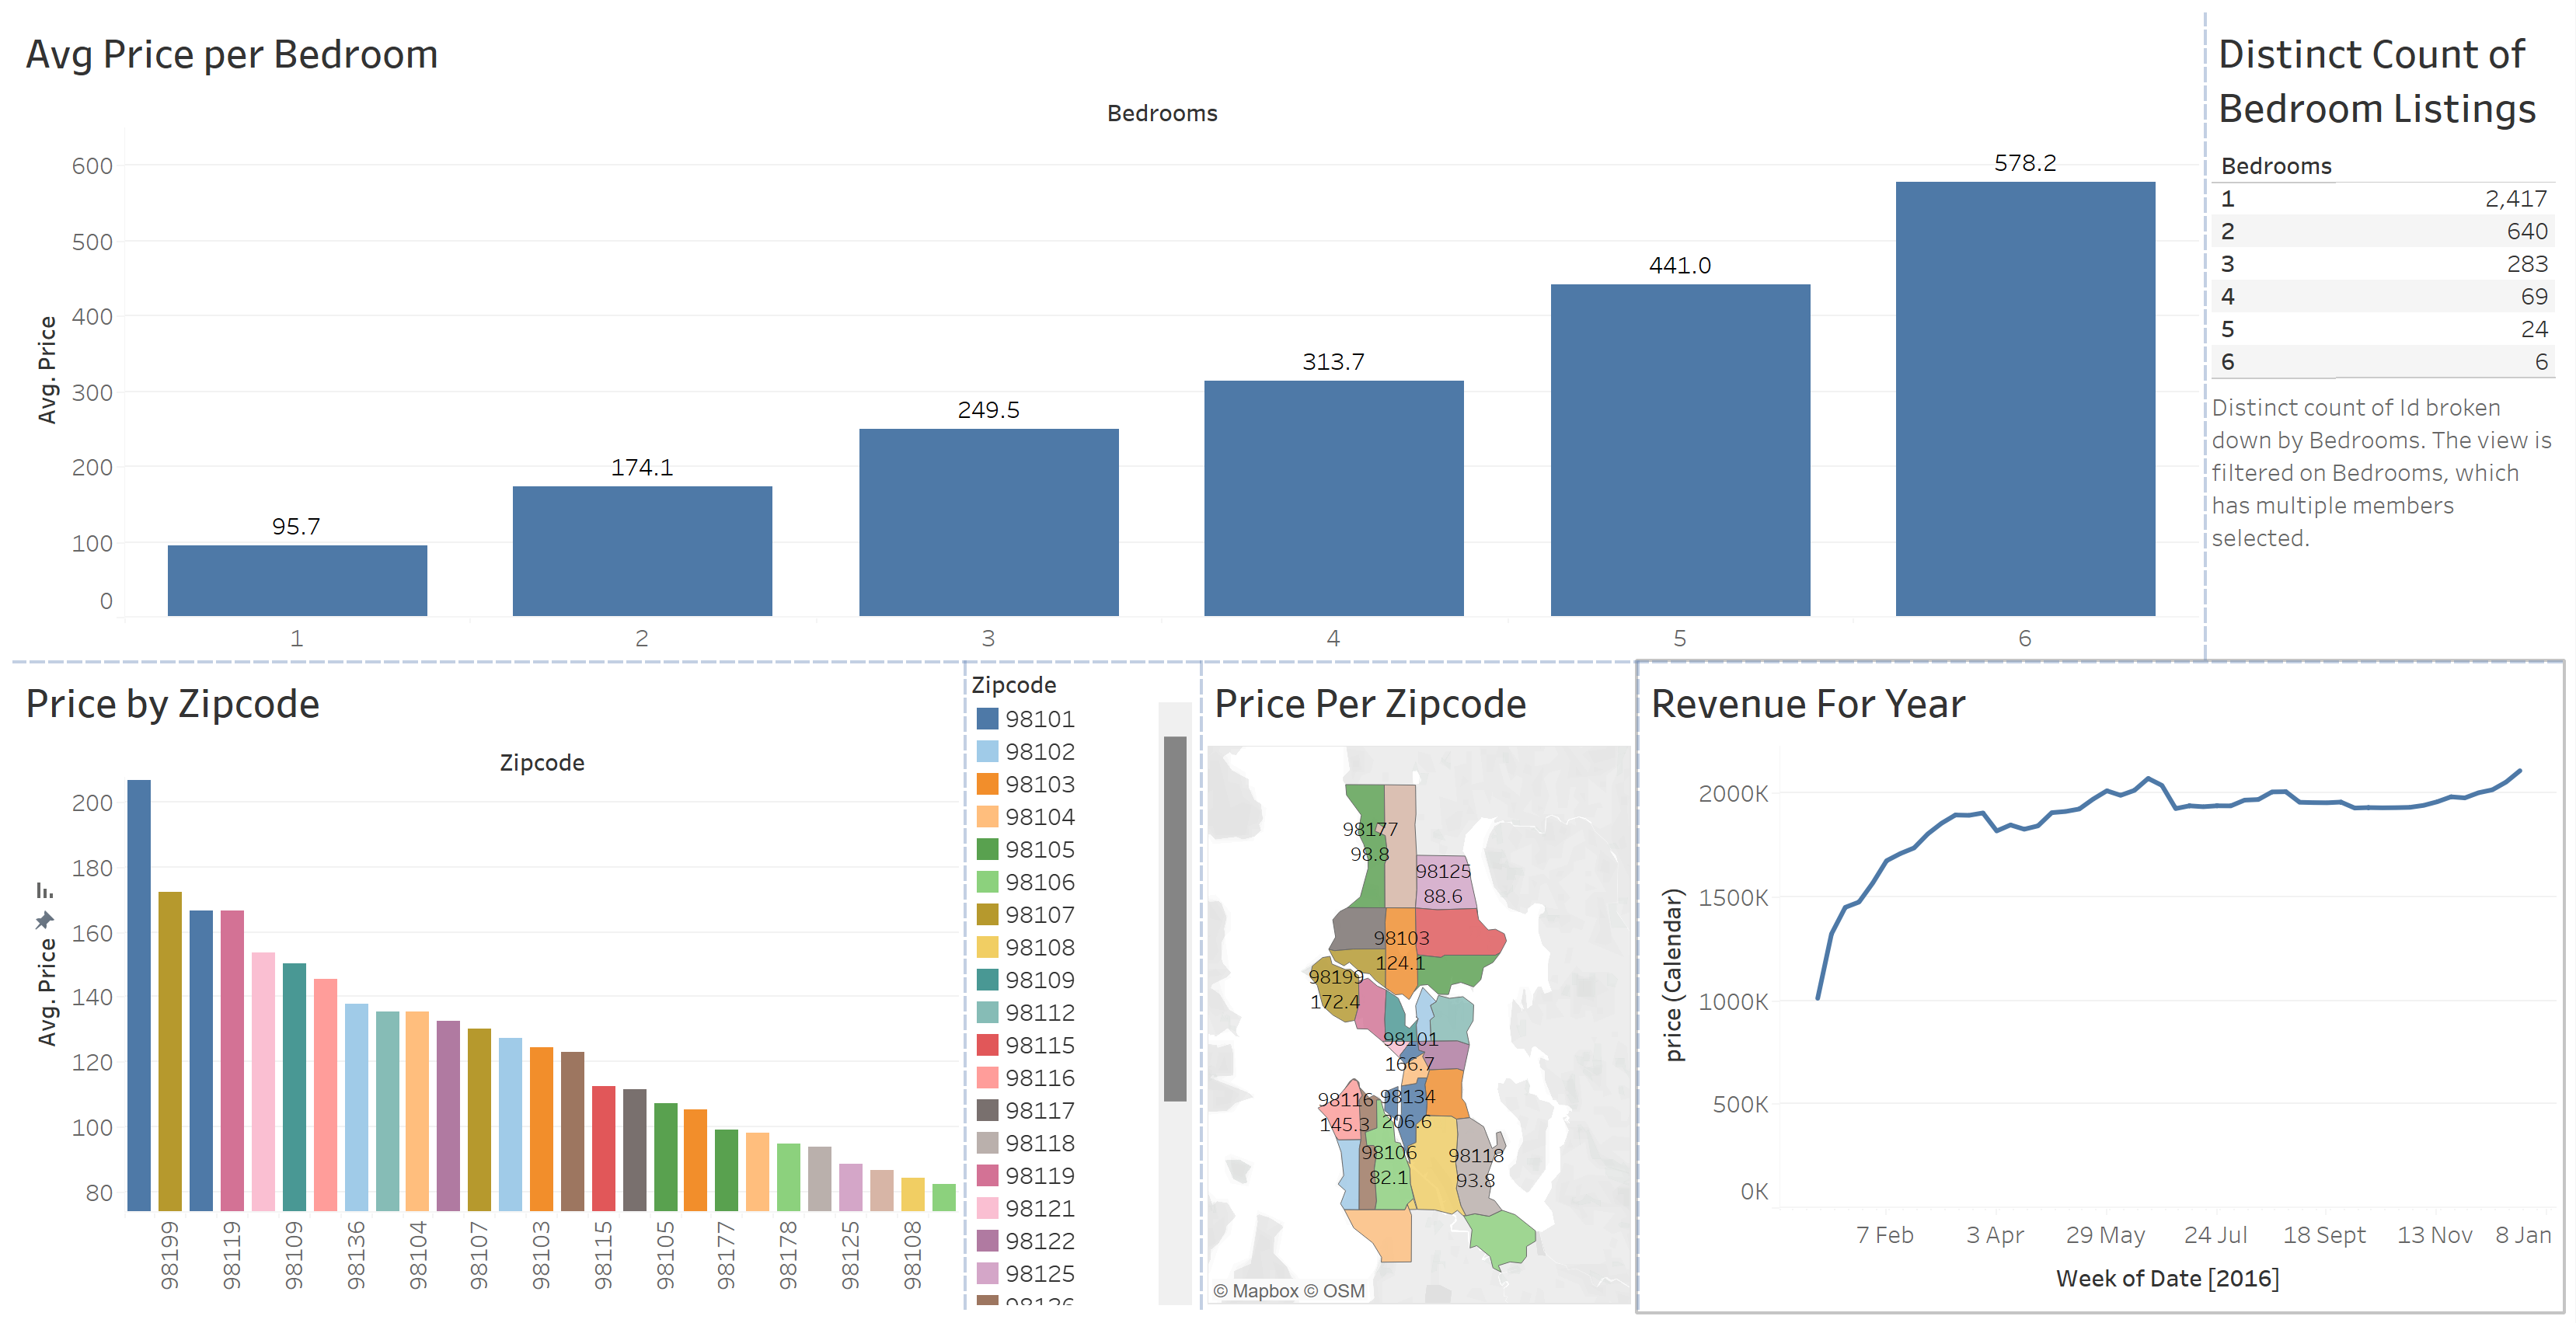

What the dashboard file says about the page in this screenshot:
{"tool":"tableau","page":{"name":"Dashboard 1","canvas":[1000,1000],"units":"permille","ordinal":0},"visuals":[{"type":"worksheet","title":"Sheet 4","mark":"Automatic","rows":["price"],"cols":["bedrooms"],"box":[5,9.8,851.4,490.2]},{"type":"worksheet","title":"Sheet 5","mark":"Automatic","rows":["bedrooms"],"box":[856.3,9.8,138.7,490.2]},{"type":"worksheet","title":"Sheet 1","mark":"Automatic","rows":["price"],"cols":["zipcode"],"box":[5,500,369.7,490.2]},{"type":"legend","title":"Sheet 1","param":"[federated.1ve1pj11f5vih118v0v301rrkm3o].[none:zipcode:ok]","box":[374.7,500,91.6,490.2]},{"type":"worksheet","title":"Sheet 2","mark":"Multipolygon","box":[466.3,500,169.6,490.2]},{"type":"worksheet","title":"Sheet 3","mark":"Automatic","rows":["price (Calendar)"],"cols":["date"],"box":[635.9,500,359.1,490.2]}]}

Visuals, with their boxes on the dashboard's canvas, which has no fixed pixel size, in thousandths of its width and height (x1, y1, x2, y2). These are canvas units, not pixel positions in the 2576x1323 screenshot, which may show the page scaled, cropped or inside an application window:
"Sheet 4" worksheet: (5, 10, 856, 500)
"Sheet 5" worksheet: (856, 10, 995, 500)
"Sheet 1" worksheet: (5, 500, 375, 990)
"Sheet 1" legend: (375, 500, 466, 990)
"Sheet 2" worksheet (Multipolygon marks): (466, 500, 636, 990)
"Sheet 3" worksheet: (636, 500, 995, 990)
